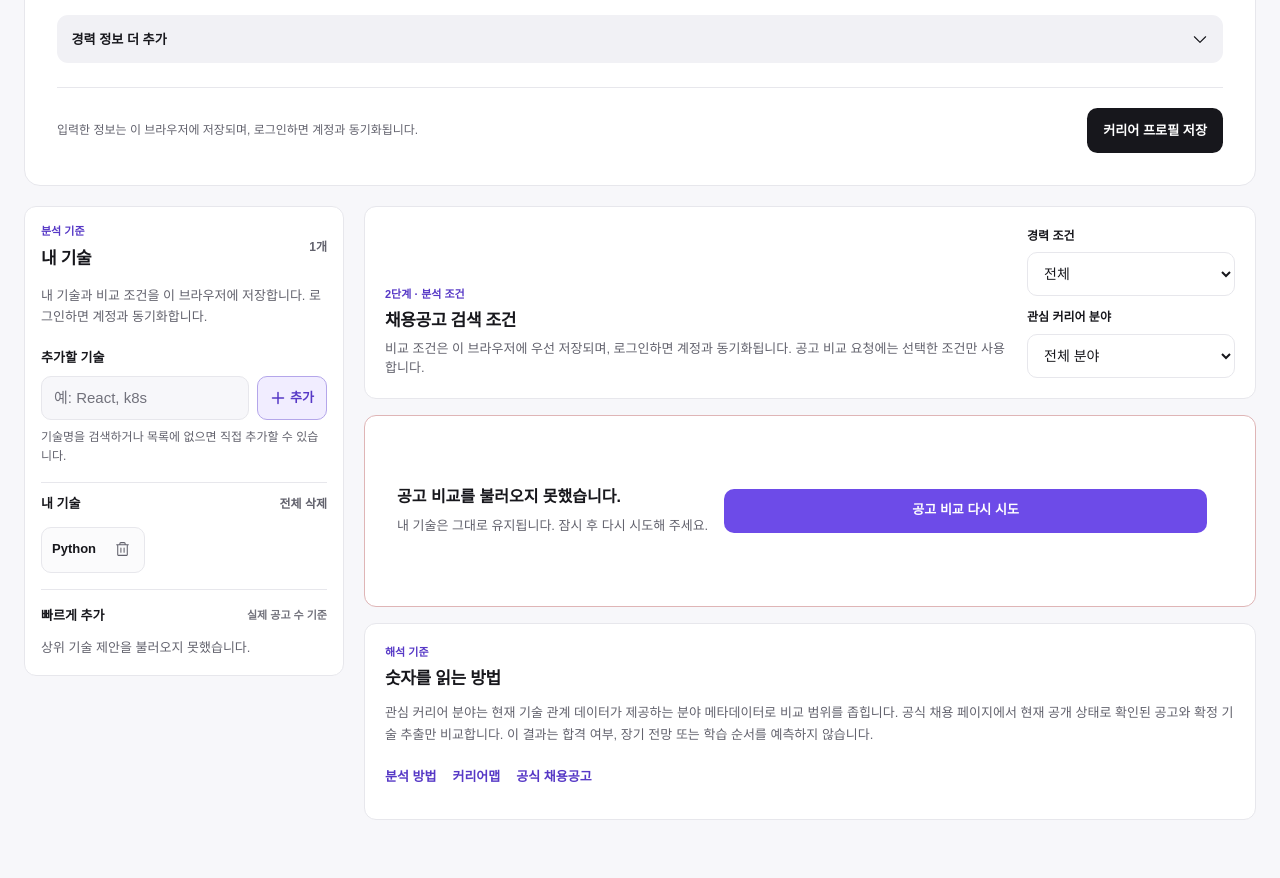
Test: CareerOverview › shows a safe retry state without leaking the proxy error
The image size is (1280, 878).
(page scrolled)
Expected: the heading "공고 비교를 불러오지 못했습니다." is shown, x1=397 y1=488 x2=621 y2=505
Expected: the text "상위 기술 제안을 불러오지 못했습니다." is shown, x1=41 y1=640 x2=250 y2=655
Click the button "공고 비교 다시 시도": (966, 511) x1=724 y1=489 x2=1207 y2=533
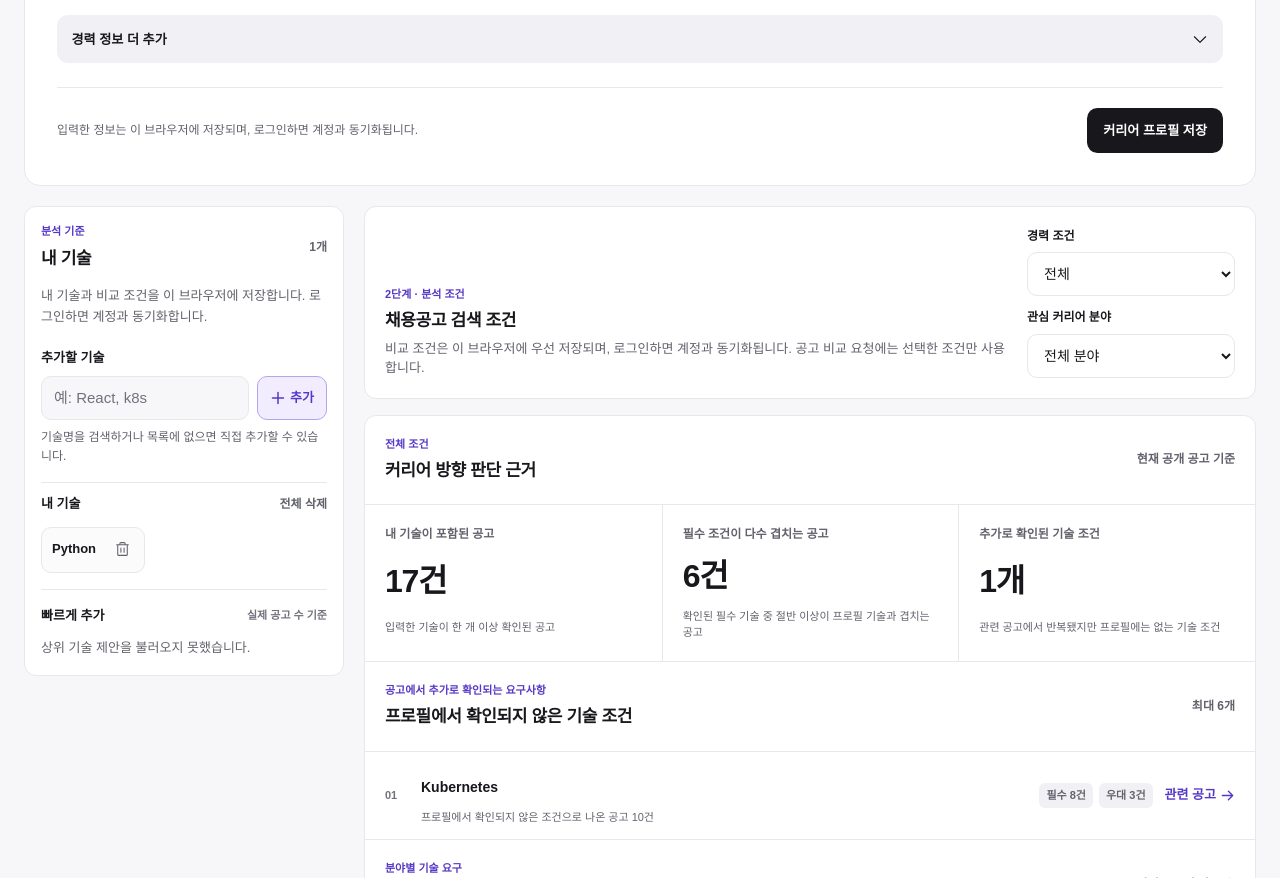
Expected: the heading "커리어 방향 판단 근거" is shown, x1=385 y1=457 x2=536 y2=484
